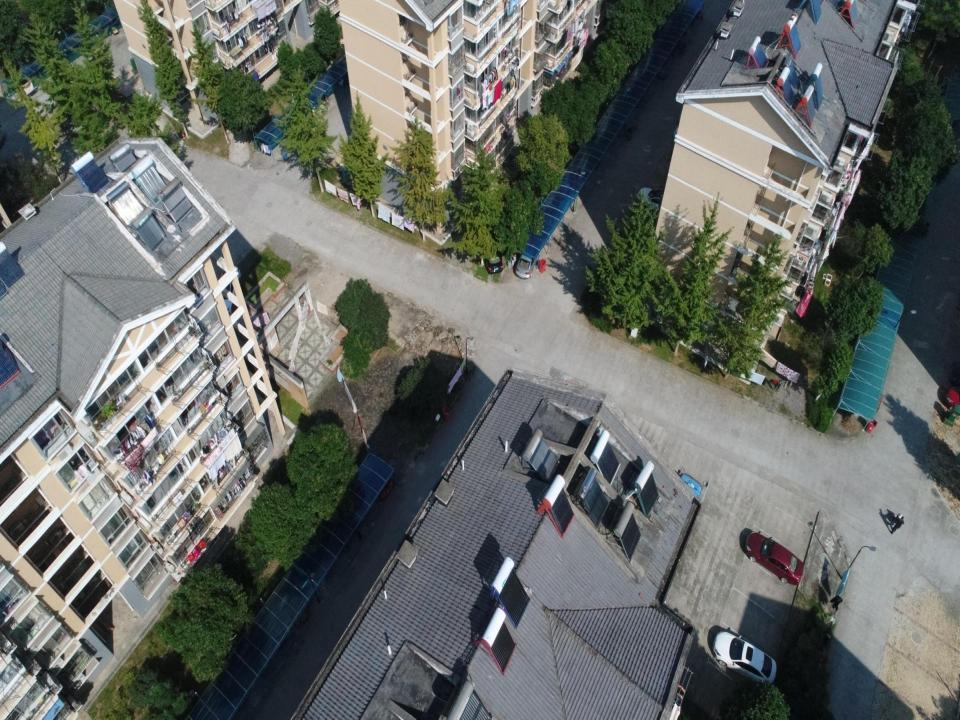car: (712, 630, 776, 686), (745, 531, 805, 586), (636, 187, 676, 216), (365, 466, 392, 500), (515, 245, 538, 279), (484, 240, 504, 274)
truck: (662, 468, 709, 545)
